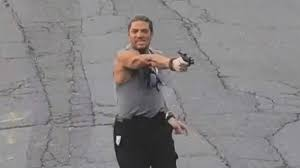gun: (176, 49, 199, 76)
